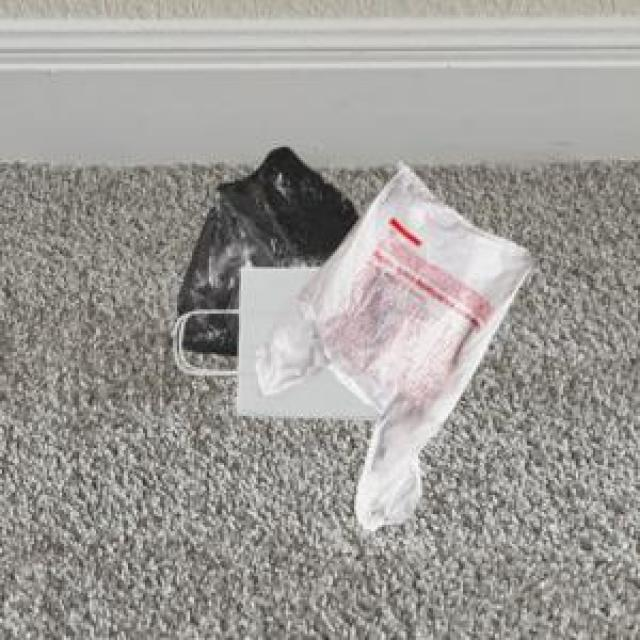paper: (172, 265, 376, 416)
